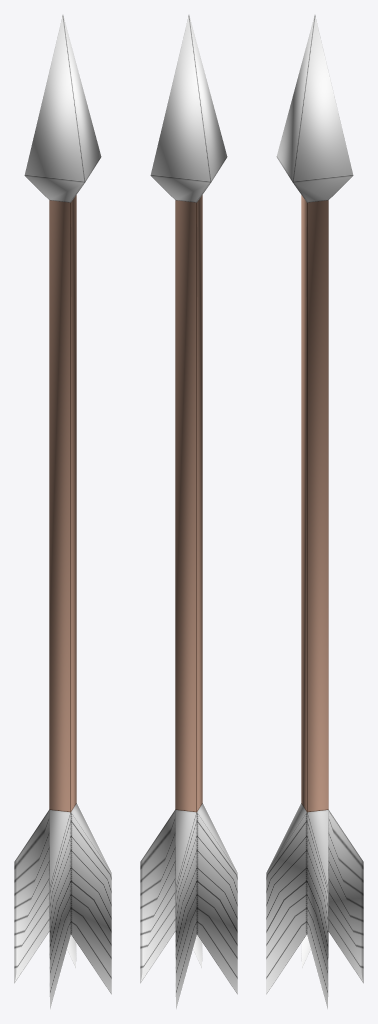
The model's file is Arrow.glb.
3 renders of one model, left to right at view 1: azimuth 30°, elevation 25°; view 2: azimuth 210°, elevation 25°; view 3: azimuth 330°, elevation 25°, orthographic.
Visible parts, largest first — view 1: Arrow; view 2: Arrow; view 3: Arrow.
Boxes of the visible parts, bbox=[...] form: Arrow: bbox=[14, 15, 111, 1008]; Arrow: bbox=[140, 15, 237, 1008]; Arrow: bbox=[266, 15, 363, 1008].
Bounding box in the file's own units: 0.0792 × 0.96 × 0.0792.
1 material, 1 textured.
